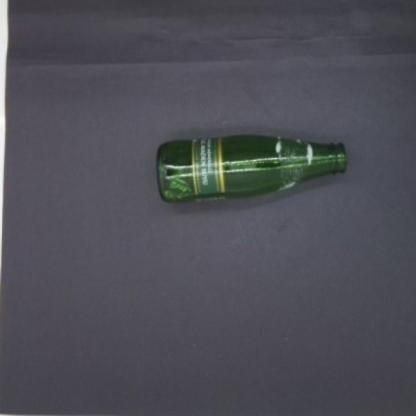Can: (156, 134, 347, 204)
